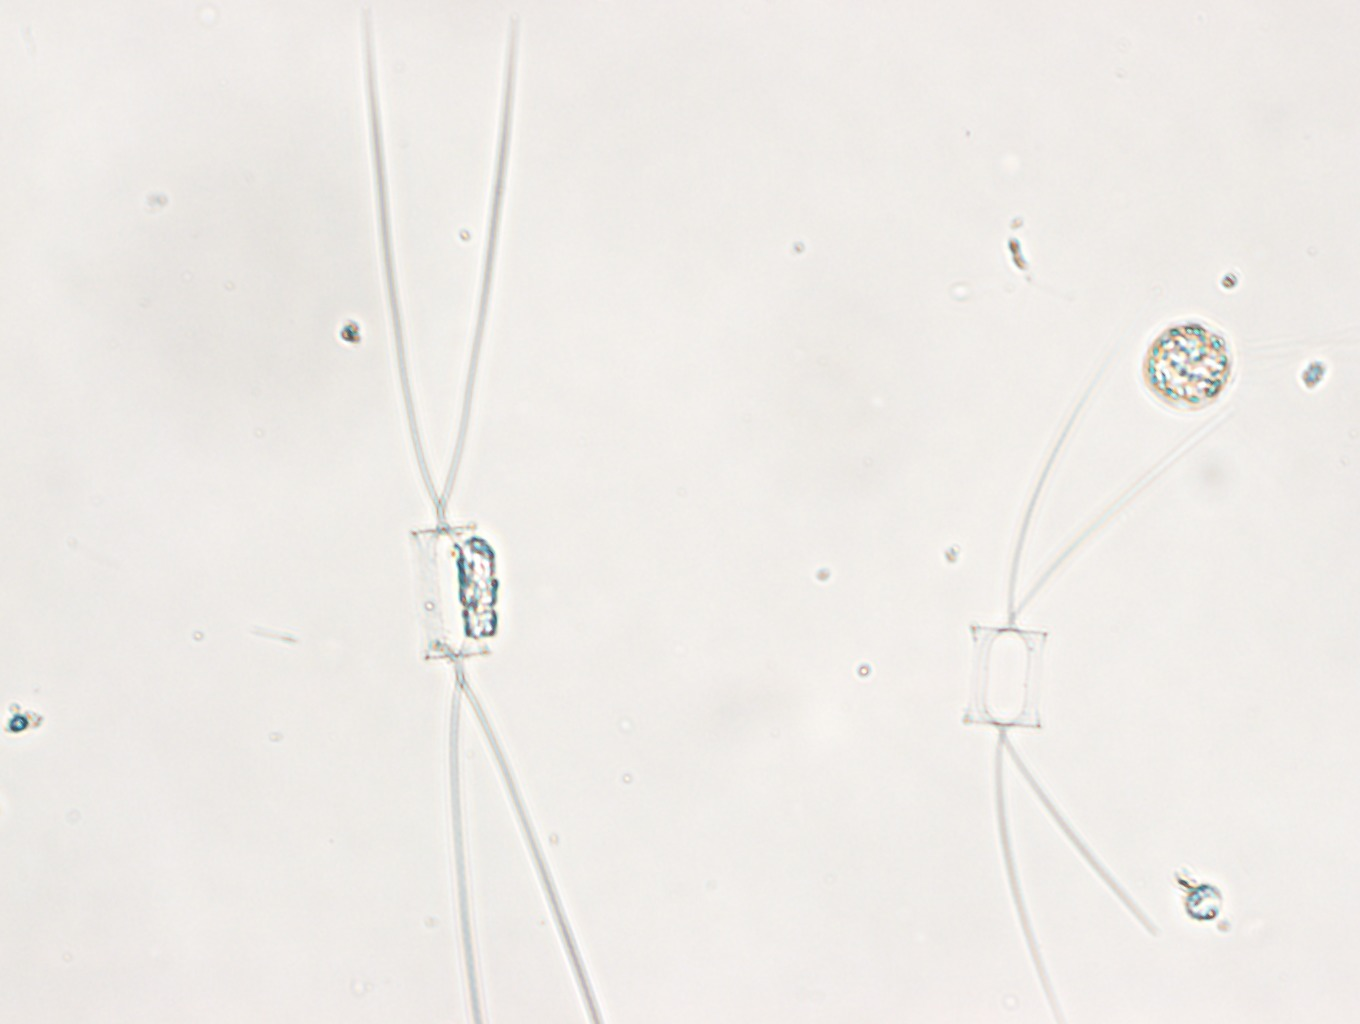chaetoceros: (358, 10, 601, 1024), (965, 336, 1230, 1024)
